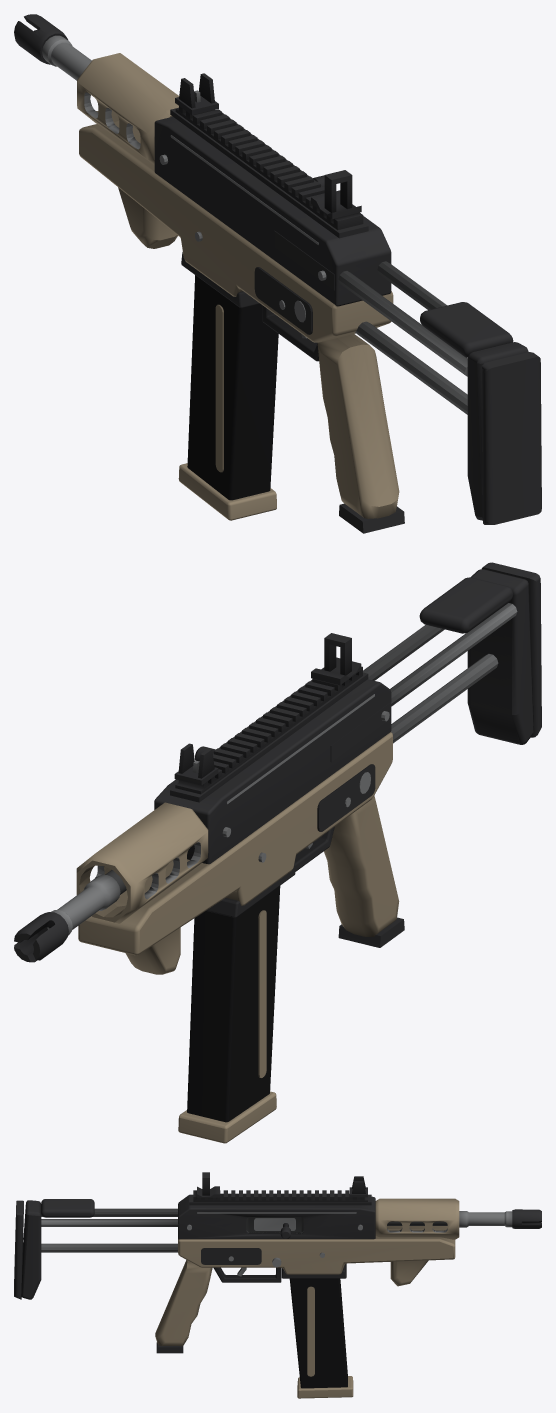
File: mako_pdw.glb
3 views of the same model, one above another, from view 1: azimuth 30°, elevation 25°; view 2: azimuth 150°, elevation 25°; view 3: azimuth 270°, elevation 25° (orthographic). The views are drawn at different scales.
Visible parts, largest first — view 1: Receiver, Stock, Magazine, IronSights, Barrel, Foregrip; view 2: Receiver, Magazine, Stock, Barrel, IronSights, Foregrip; view 3: Receiver, Stock, Magazine, Barrel, IronSights, Foregrip, Bolt.
Part boxes in pixels (<box>): Receiver: <box>77,53,404,533</box>; Stock: <box>338,261,541,524</box>; Magazine: <box>178,275,278,520</box>; IronSights: <box>175,73,361,218</box>; Barrel: <box>14,14,91,80</box>; Foregrip: <box>118,187,177,248</box>; Receiver: <box>76,666,404,955</box>; Magazine: <box>178,886,280,1143</box>; Stock: <box>363,562,541,744</box>; Barrel: <box>14,870,126,962</box>; IronSights: <box>174,633,361,785</box>; Foregrip: <box>125,927,180,974</box>; Receiver: <box>155,1190,459,1353</box>; Stock: <box>14,1199,178,1299</box>; Magazine: <box>289,1278,353,1398</box>; Barrel: <box>387,1209,541,1228</box>; IronSights: <box>197,1172,367,1197</box>; Foregrip: <box>390,1260,428,1286</box>; Bolt: <box>254,1218,295,1230</box>.
Bounding box in the file's own units: 0.0815 × 0.3159 × 0.695.
